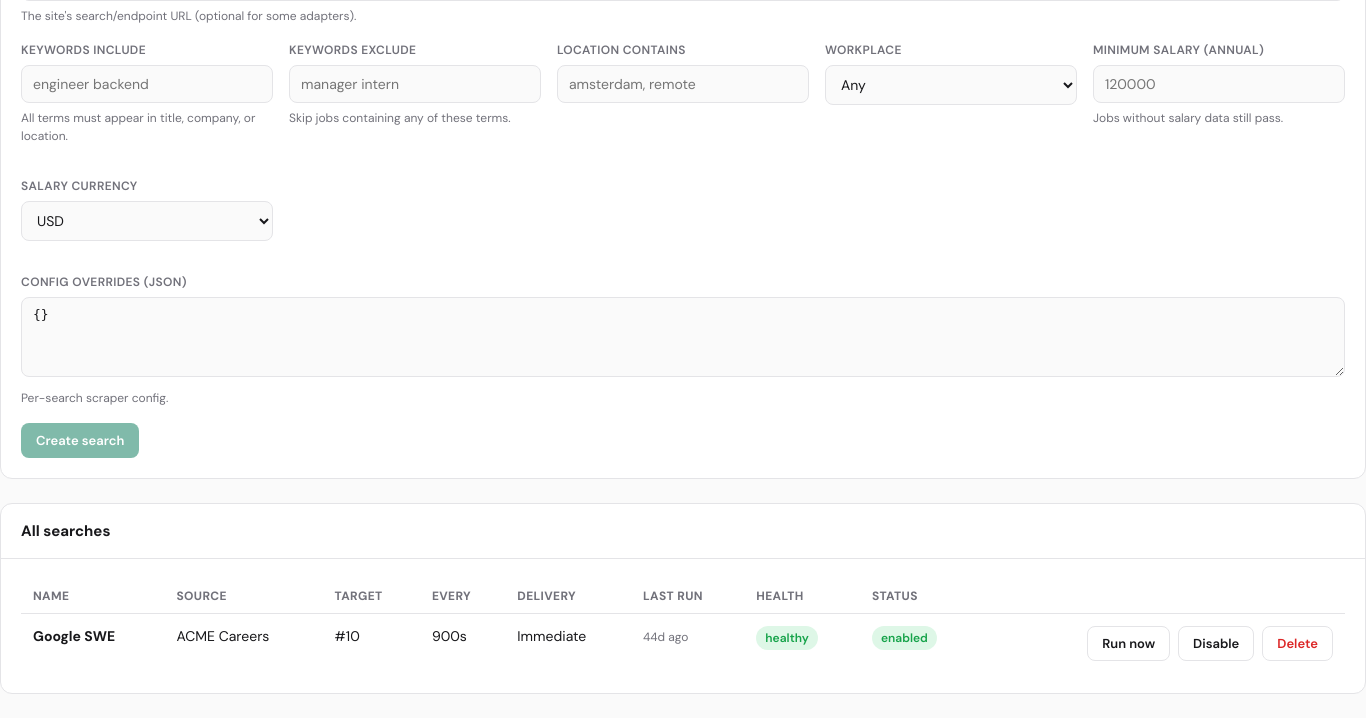
Test: SearchesPage › surfaces a thrown run error as an error banner
(page scrolled)
Expected: the text "Google SWE" is shown, [33, 627, 115, 645]
Step 1. Click the button "Run now" → (1129, 644), box [1087, 626, 1170, 661]
(page scrolled)
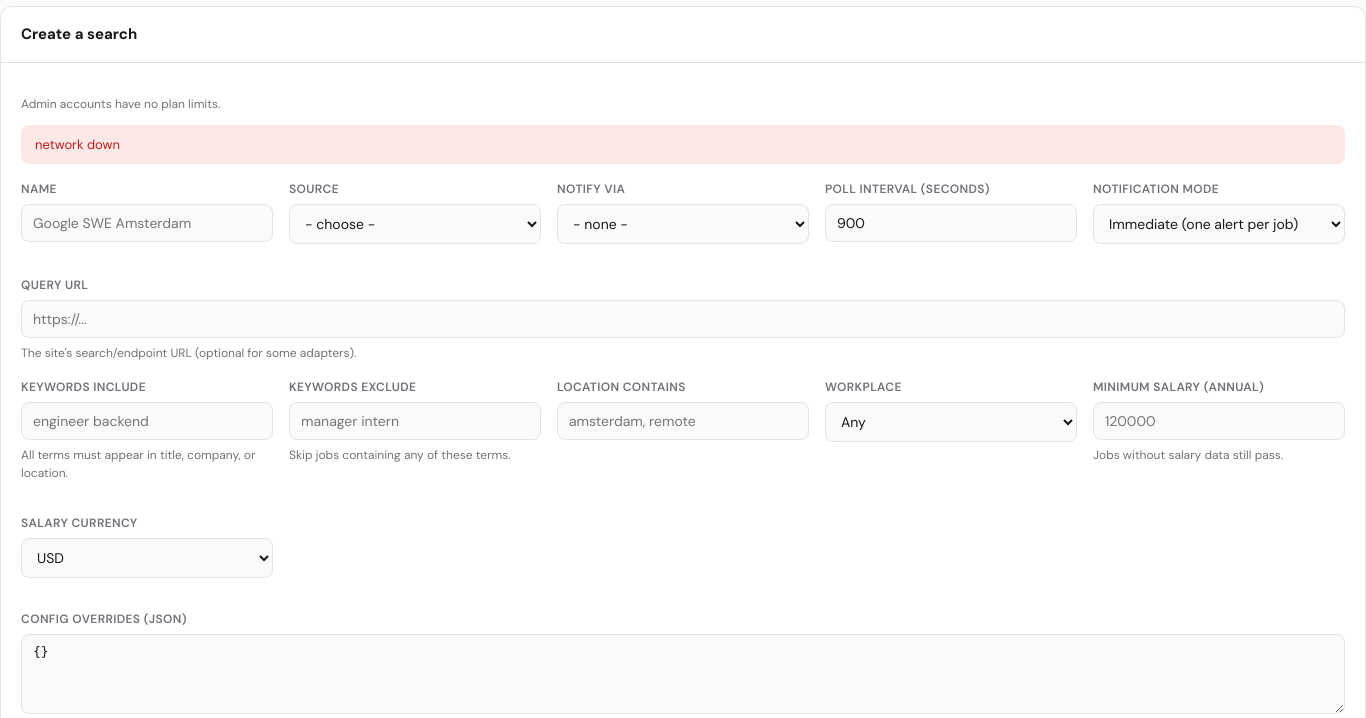
Expected: the text "network down" is shown, [21, 124, 1345, 164]
